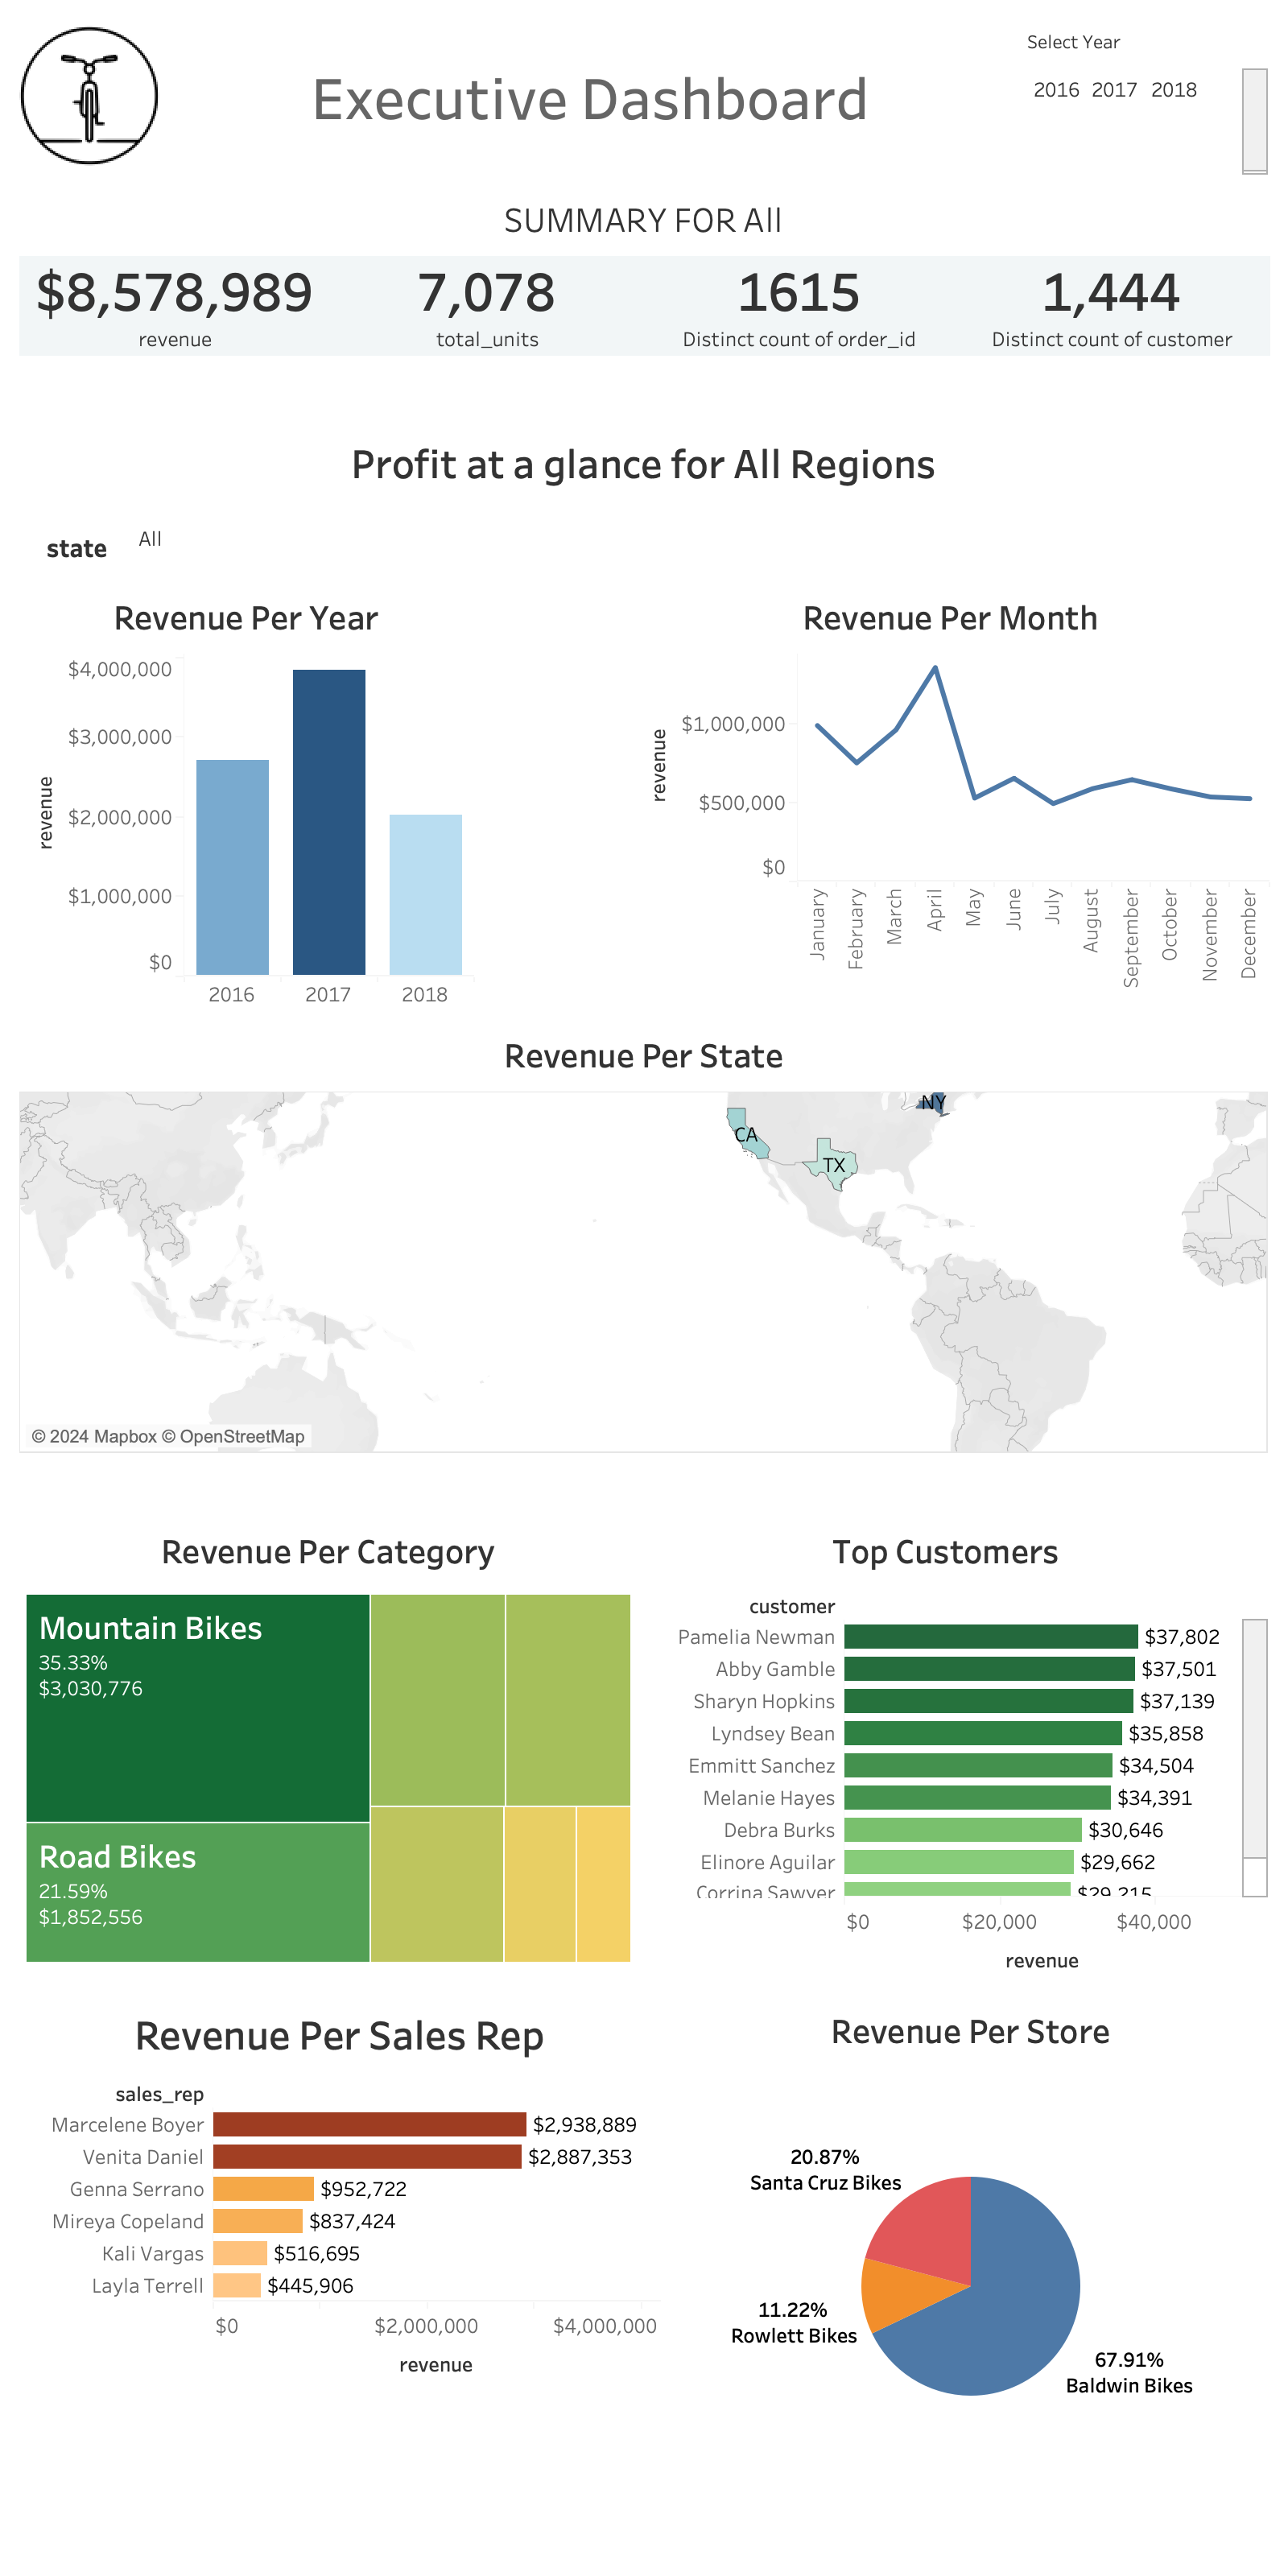

The page's visual inventory and layout, read from the dashboard file:
{"tool":"tableau","page":{"name":"Dashboard 1","canvas":[800,1600],"ordinal":0},"visuals":[{"type":"image","param":"Image/transport_10940366.png","box":[8,8,95,104]},{"type":"text","box":[103,8,527,104]},{"type":"worksheet","title":"Year","mark":"Automatic","box":[630,8,162,104]},{"type":"worksheet","title":"Banner","mark":"Automatic","box":[8,112,784,112]},{"type":"worksheet","title":"Title","mark":"Multipolygon","box":[8,261,784,61]},{"type":"filter","title":"Revenue Per State","param":"[federated.1e622z3078axvc1gv8sbt0ek7ayz].[none:state:nk]","box":[8,322,784,37]},{"type":"worksheet","title":"Revenue Per Year","mark":"Bar","rows":["revenue"],"cols":["order_date"],"box":[8,359,381,272]},{"type":"worksheet","title":"Revenue Per Month","mark":"Automatic","rows":["revenue"],"cols":["order_date"],"box":[389,359,403,272]},{"type":"worksheet","title":"Revenue Per State","mark":"Multipolygon","box":[8,631,784,276]},{"type":"blank","box":[8,907,784,32]},{"type":"worksheet","title":"Revenue Per Category","mark":"Automatic","box":[8,939,392,298]},{"type":"worksheet","title":"Top Customers","mark":"Automatic","rows":["customer"],"cols":["revenue"],"box":[400,939,392,298]},{"type":"worksheet","title":"Revenue/Sales Rep","mark":"Automatic","rows":["sales_rep"],"cols":["revenue"],"box":[8,1237,406,323]},{"type":"worksheet","title":"Revenue Per Store","mark":"Pie","box":[414,1237,378,323]},{"type":"blank","box":[8,1560,784,32]}]}

Visuals, with their boxes in screenshot pixels (x1, y1, x2, y2), scaled from the page's 800x1600 canvas onto the 1288x2576 screenshot:
image: bbox=[13, 13, 166, 180]
text: bbox=[166, 13, 1014, 180]
"Year" worksheet: bbox=[1014, 13, 1275, 180]
"Banner" worksheet: bbox=[13, 180, 1275, 361]
"Title" worksheet (Multipolygon marks): bbox=[13, 420, 1275, 518]
"Revenue Per State" filter: bbox=[13, 518, 1275, 578]
"Revenue Per Year" worksheet (Bar marks): bbox=[13, 578, 626, 1016]
"Revenue Per Month" worksheet: bbox=[626, 578, 1275, 1016]
"Revenue Per State" worksheet (Multipolygon marks): bbox=[13, 1016, 1275, 1460]
blank: bbox=[13, 1460, 1275, 1512]
"Revenue Per Category" worksheet: bbox=[13, 1512, 644, 1992]
"Top Customers" worksheet: bbox=[644, 1512, 1275, 1992]
"Revenue/Sales Rep" worksheet: bbox=[13, 1992, 667, 2512]
"Revenue Per Store" worksheet (Pie marks): bbox=[667, 1992, 1275, 2512]
blank: bbox=[13, 2512, 1275, 2563]
